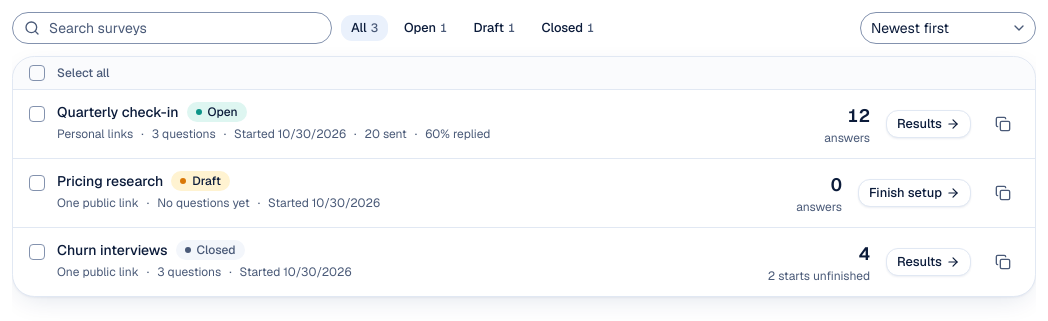
Test: surveys list › filters by state and counts each one
The image size is (1048, 321).
Step 1. Click the button "Open 1" → (426, 28), box [393,14,458,42]
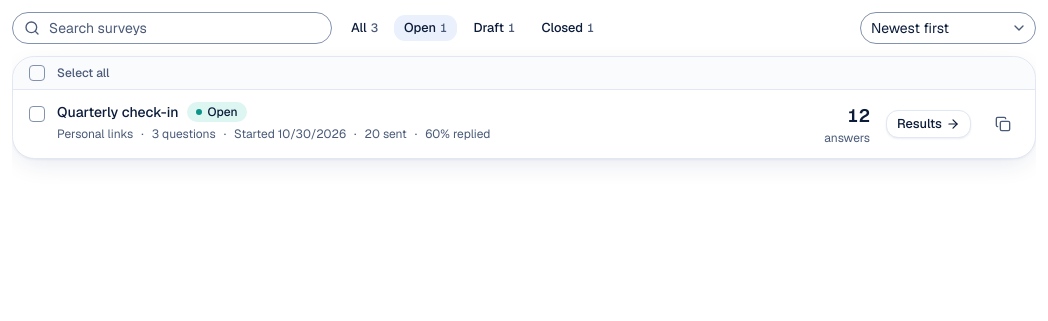
expect the link "Quarterly check-in" is shown: met, box [57,102,179,122]
expect the link "Pricing research" is gone: met
expect the link "Churn interviews" is gone: met
